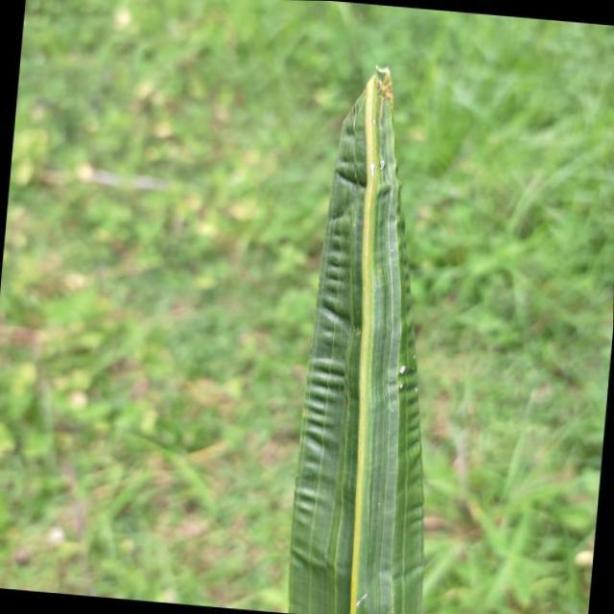Boron: (284, 51, 426, 614)
